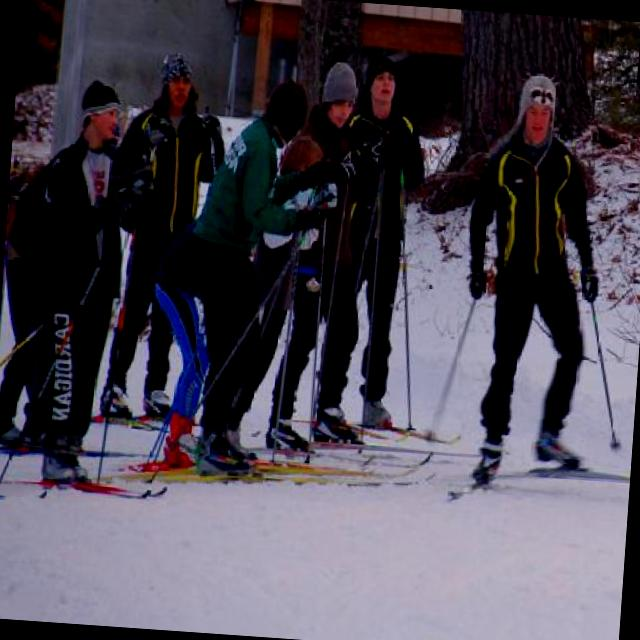Person: (450, 66, 619, 492), (173, 74, 339, 478), (28, 77, 162, 489), (262, 57, 396, 456), (98, 48, 231, 422), (324, 51, 431, 430), (220, 132, 340, 462), (0, 143, 65, 450), (143, 218, 218, 474)
